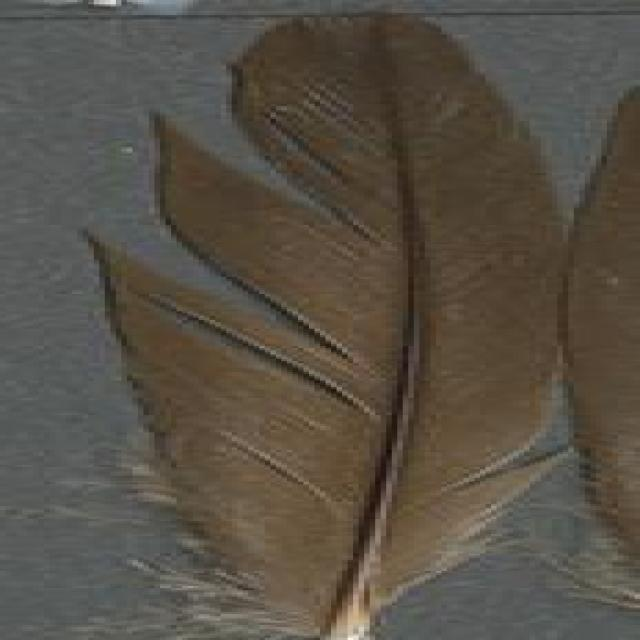feather: (83, 9, 571, 640)
